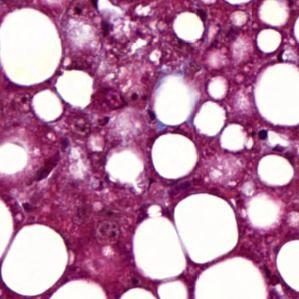steatosis: (0, 3, 66, 88), (0, 218, 68, 297), (174, 190, 243, 262), (150, 130, 199, 178), (172, 9, 211, 49), (259, 152, 296, 190)
